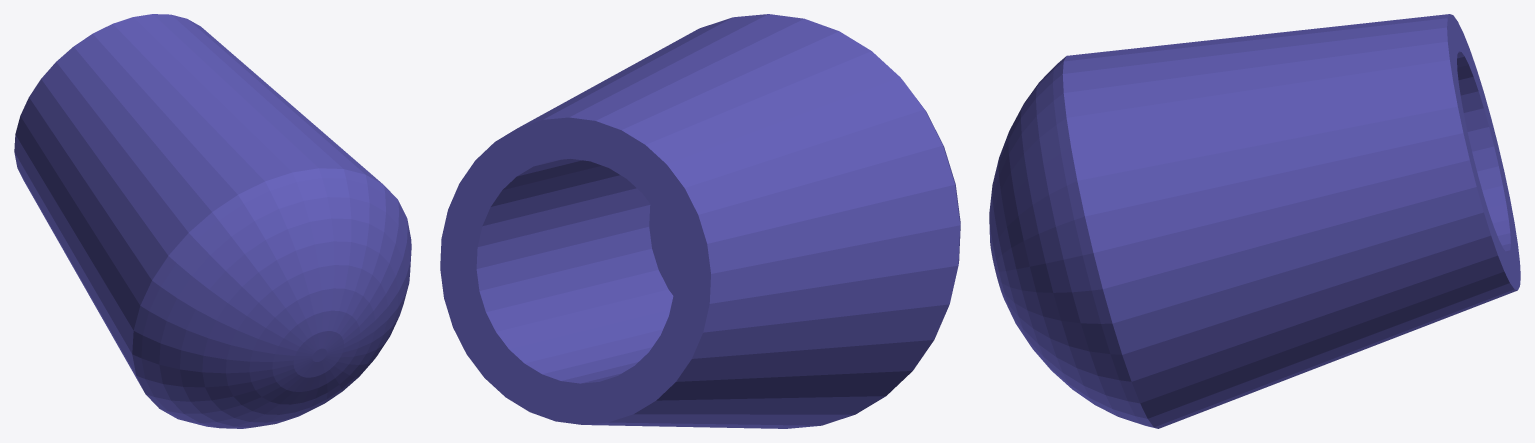
The model's file is Cannone.fbx.
3 renders of one model, left to right at view 1: azimuth 30°, elevation 25°; view 2: azimuth 150°, elevation 25°; view 3: azimuth 270°, elevation 25°, orthographic. The views are drawn at different scales.
Visible parts, largest first — view 1: Cylinder.001; view 2: Cylinder.001; view 3: Cylinder.001.
Boxes of the visible parts, x1,y1,x2,y2 form: Cylinder.001: (14, 14, 411, 428); Cylinder.001: (440, 14, 960, 428); Cylinder.001: (989, 14, 1520, 428).
Bounding box in the file's own units: 200 × 220 × 277.
